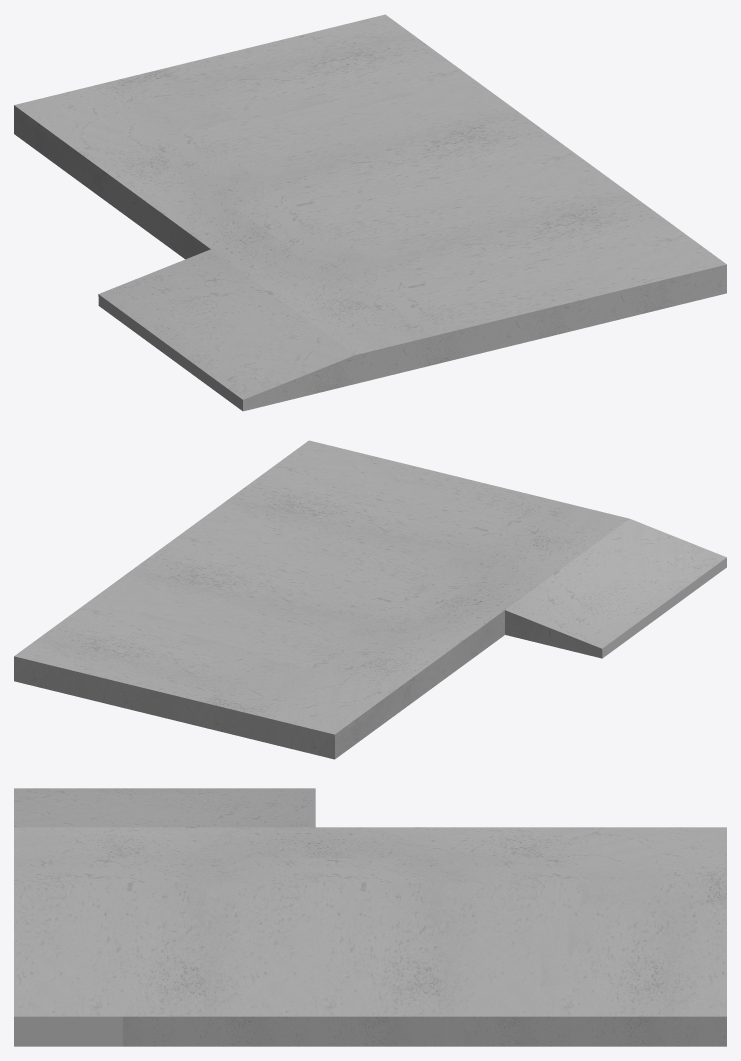
File: Eden_housetop.fbx
The picture shows the model from 3 angles, top to bottom: view 1: azimuth 30°, elevation 25°; view 2: azimuth 150°, elevation 25°; view 3: azimuth 270°, elevation 25°; orthographic projection. The views are drawn at different scales.
Parts seen in each view (by area): view 1: polySurface145; view 2: polySurface145; view 3: polySurface145.
Boxes of the visible parts, left/top/right/bottom form: polySurface145: left=14, top=14, right=726, bottom=411; polySurface145: left=14, top=440, right=726, bottom=759; polySurface145: left=14, top=788, right=726, bottom=1046.
Size of the model in its own units: 0.3322 by 0.019 by 0.4061.
1 material, 1 textured.
